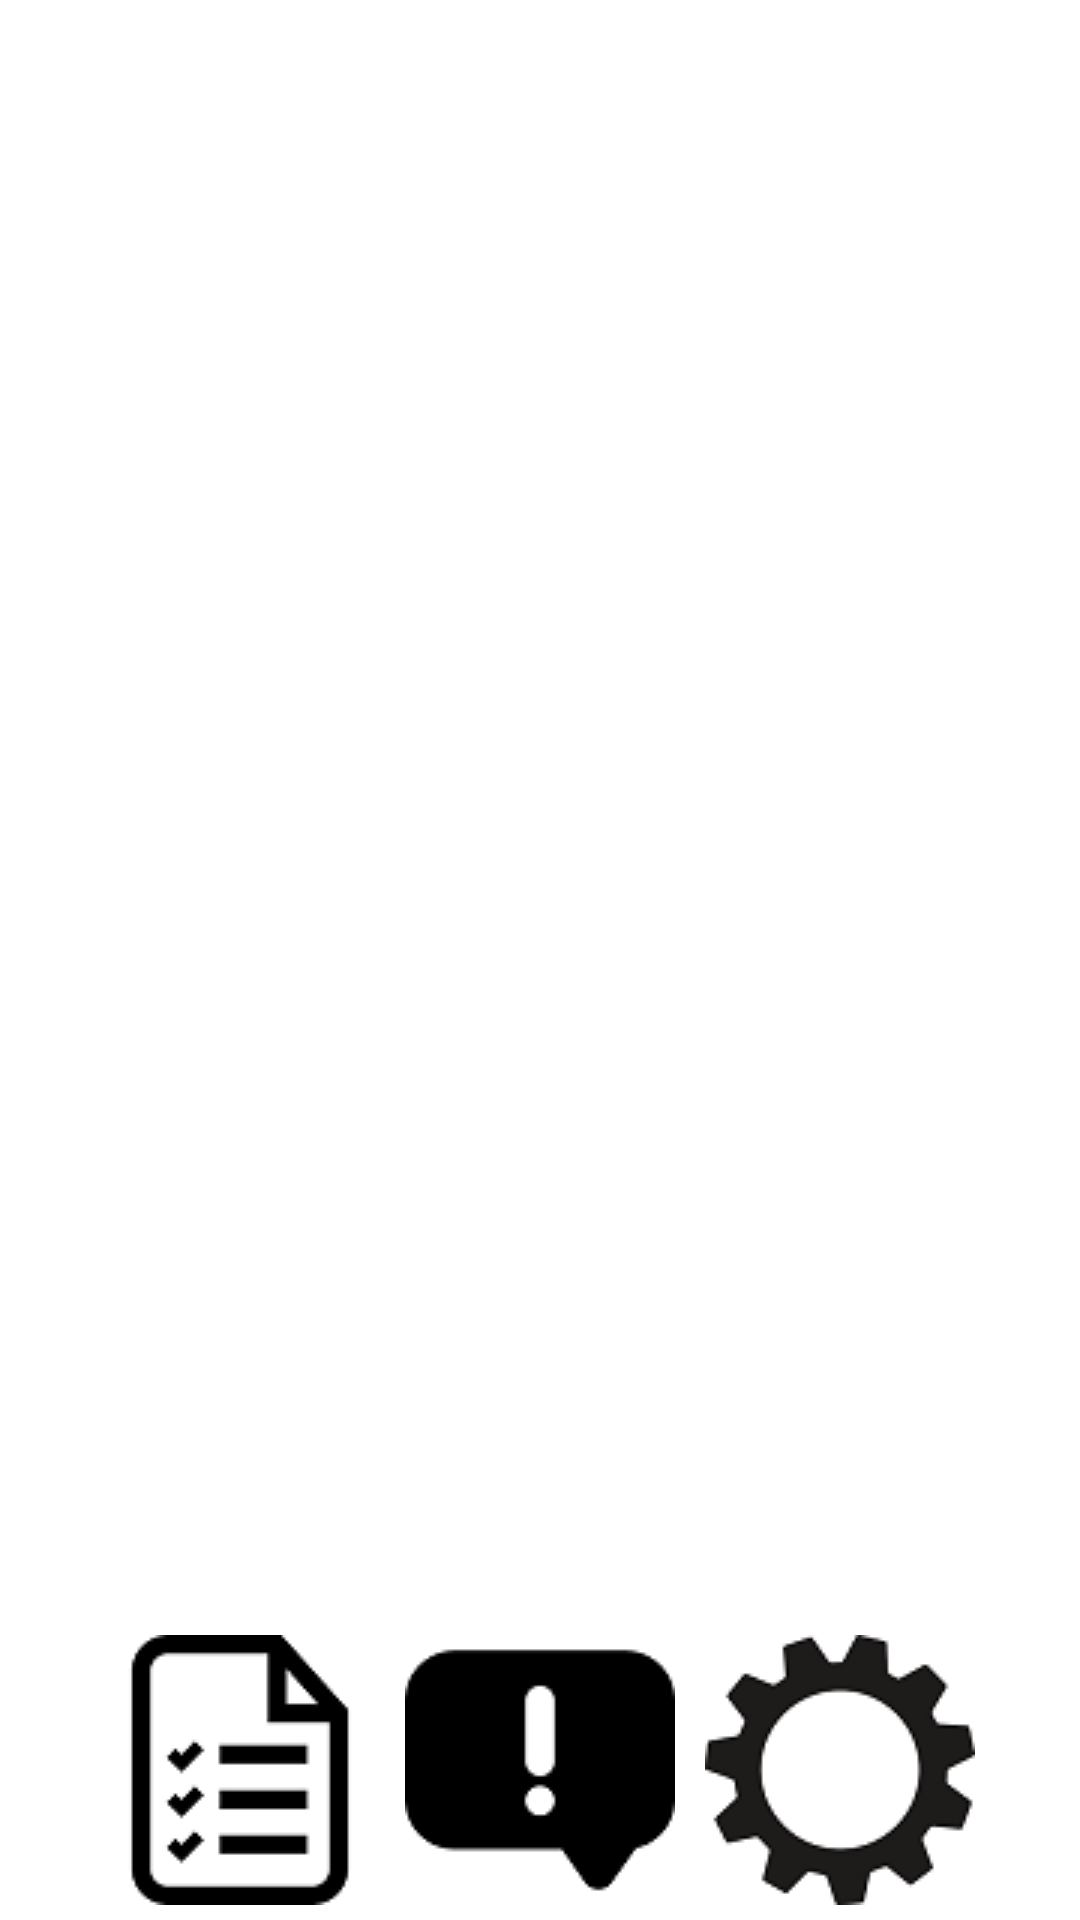

Where icons sit on this 1080x1920 app screen, as [x1=x1, y1=y1, x2=x2, y2=y2]:
alert: [x1=405, y1=1649, x2=675, y2=1891]
settings gear: [x1=705, y1=1635, x2=975, y2=1905]
